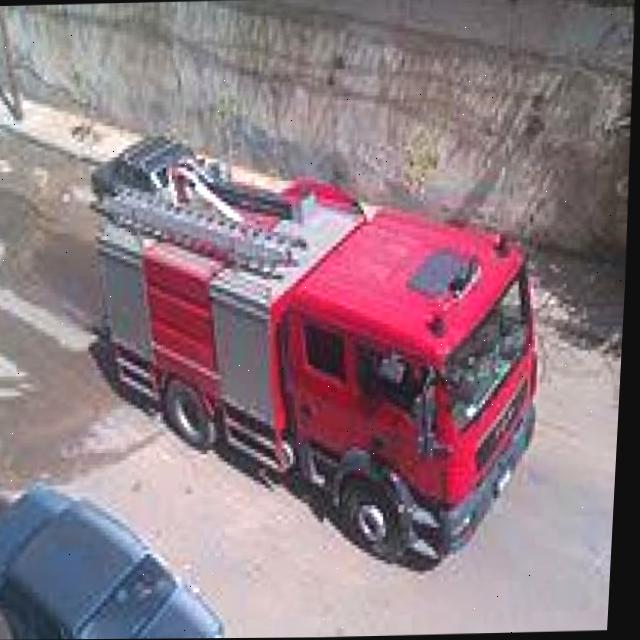emergency: (71, 90, 562, 566)
